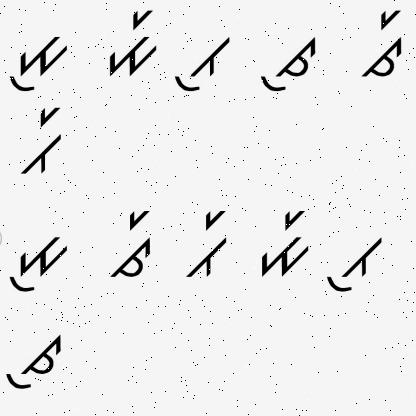bar: (19, 105, 71, 181), (183, 207, 231, 280)
baw: (320, 223, 385, 296), (172, 27, 232, 96)
car: (107, 203, 158, 279), (357, 6, 407, 80)
caw: (255, 30, 320, 98), (4, 327, 66, 393)
mar: (254, 204, 312, 282), (104, 8, 160, 79)
maw: (4, 227, 74, 293), (5, 32, 69, 95)
